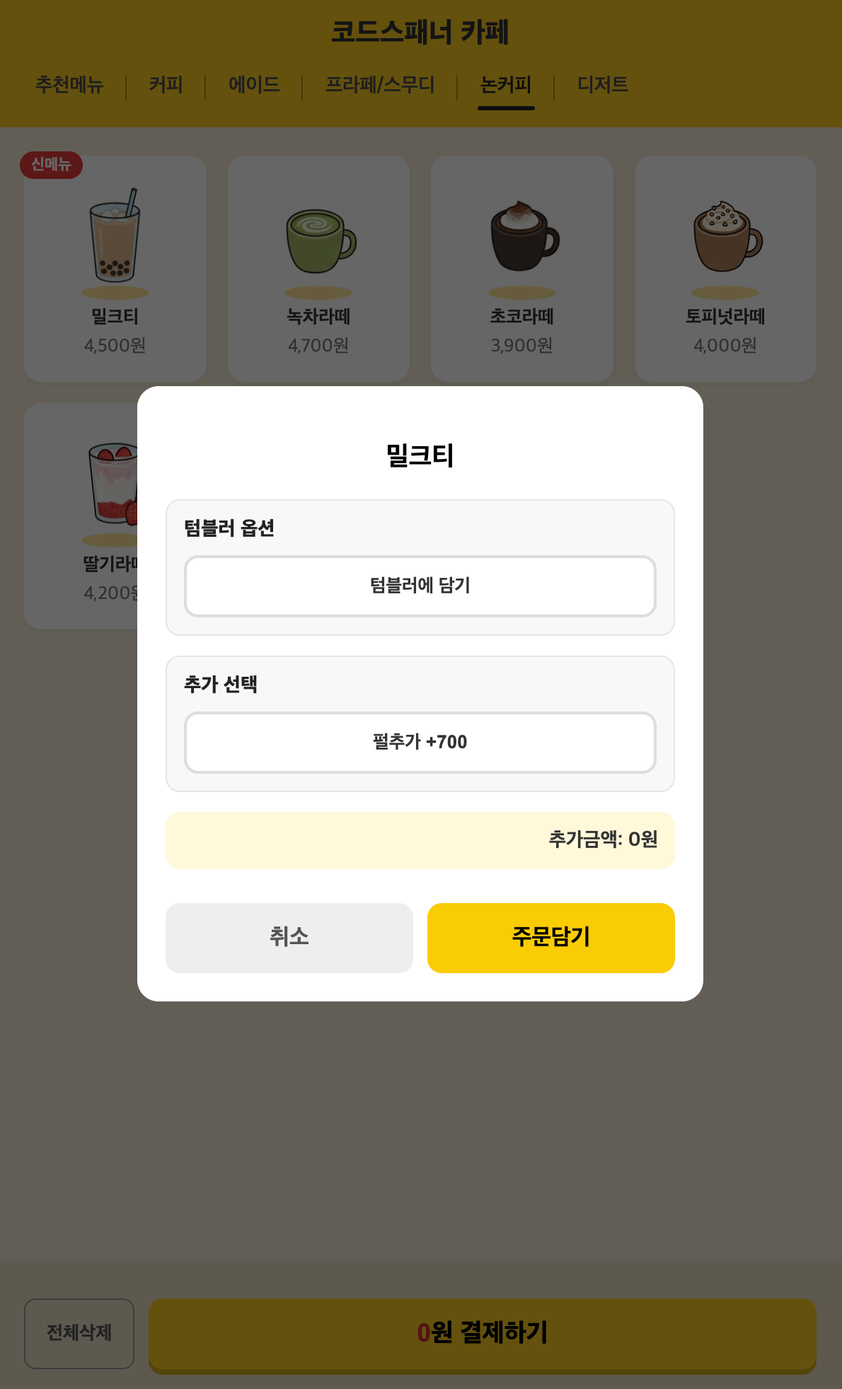action_button: (184, 555, 657, 618), (183, 711, 656, 774), (427, 903, 675, 974), (165, 903, 413, 973)
popup_modal: (137, 386, 704, 1002)
